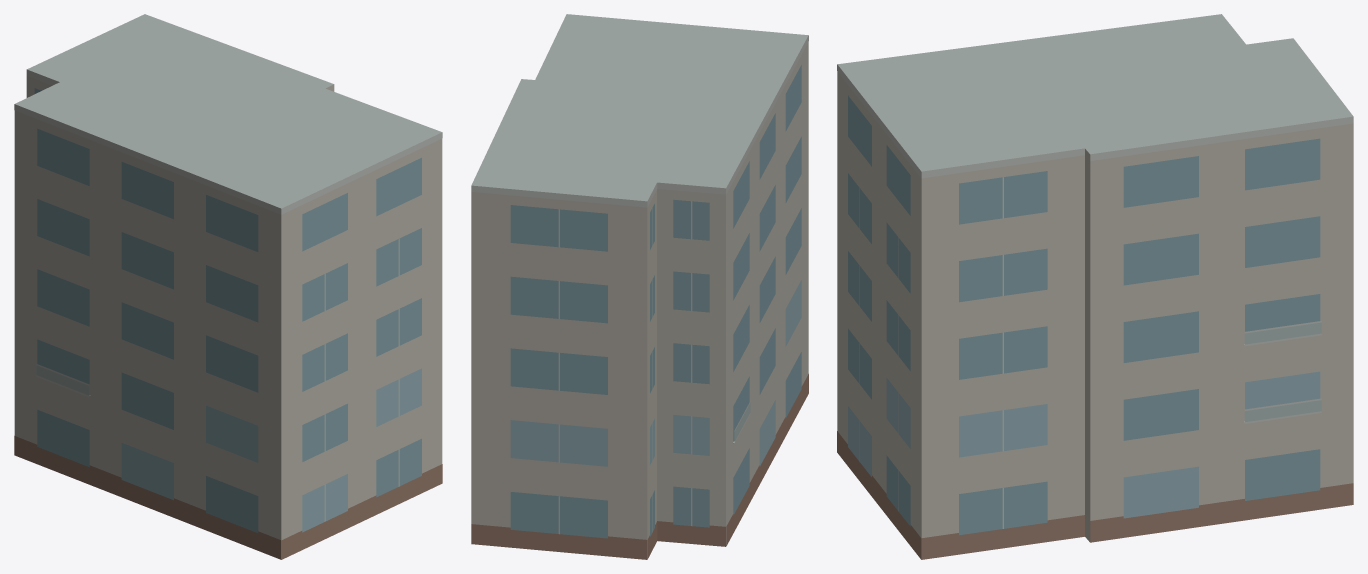
The model's file is survey-upis-32663818.glb.
3 renders of one model, left to right at view 1: azimuth 30°, elevation 25°; view 2: azimuth 150°, elevation 25°; view 3: azimuth 270°, elevation 25°, orthographic. The views are drawn at different scales.
Visible parts, largest first — view 1: survey-upis-32663818.tmp; view 2: survey-upis-32663818.tmp; view 3: survey-upis-32663818.tmp.
Boxes of the visible parts, left/top/right/bottom form: survey-upis-32663818.tmp: left=14, top=14, right=442, bottom=559; survey-upis-32663818.tmp: left=471, top=14, right=808, bottom=559; survey-upis-32663818.tmp: left=837, top=14, right=1353, bottom=559.
Size of the model in its own units: 12.15 by 13.95 by 16.82.
